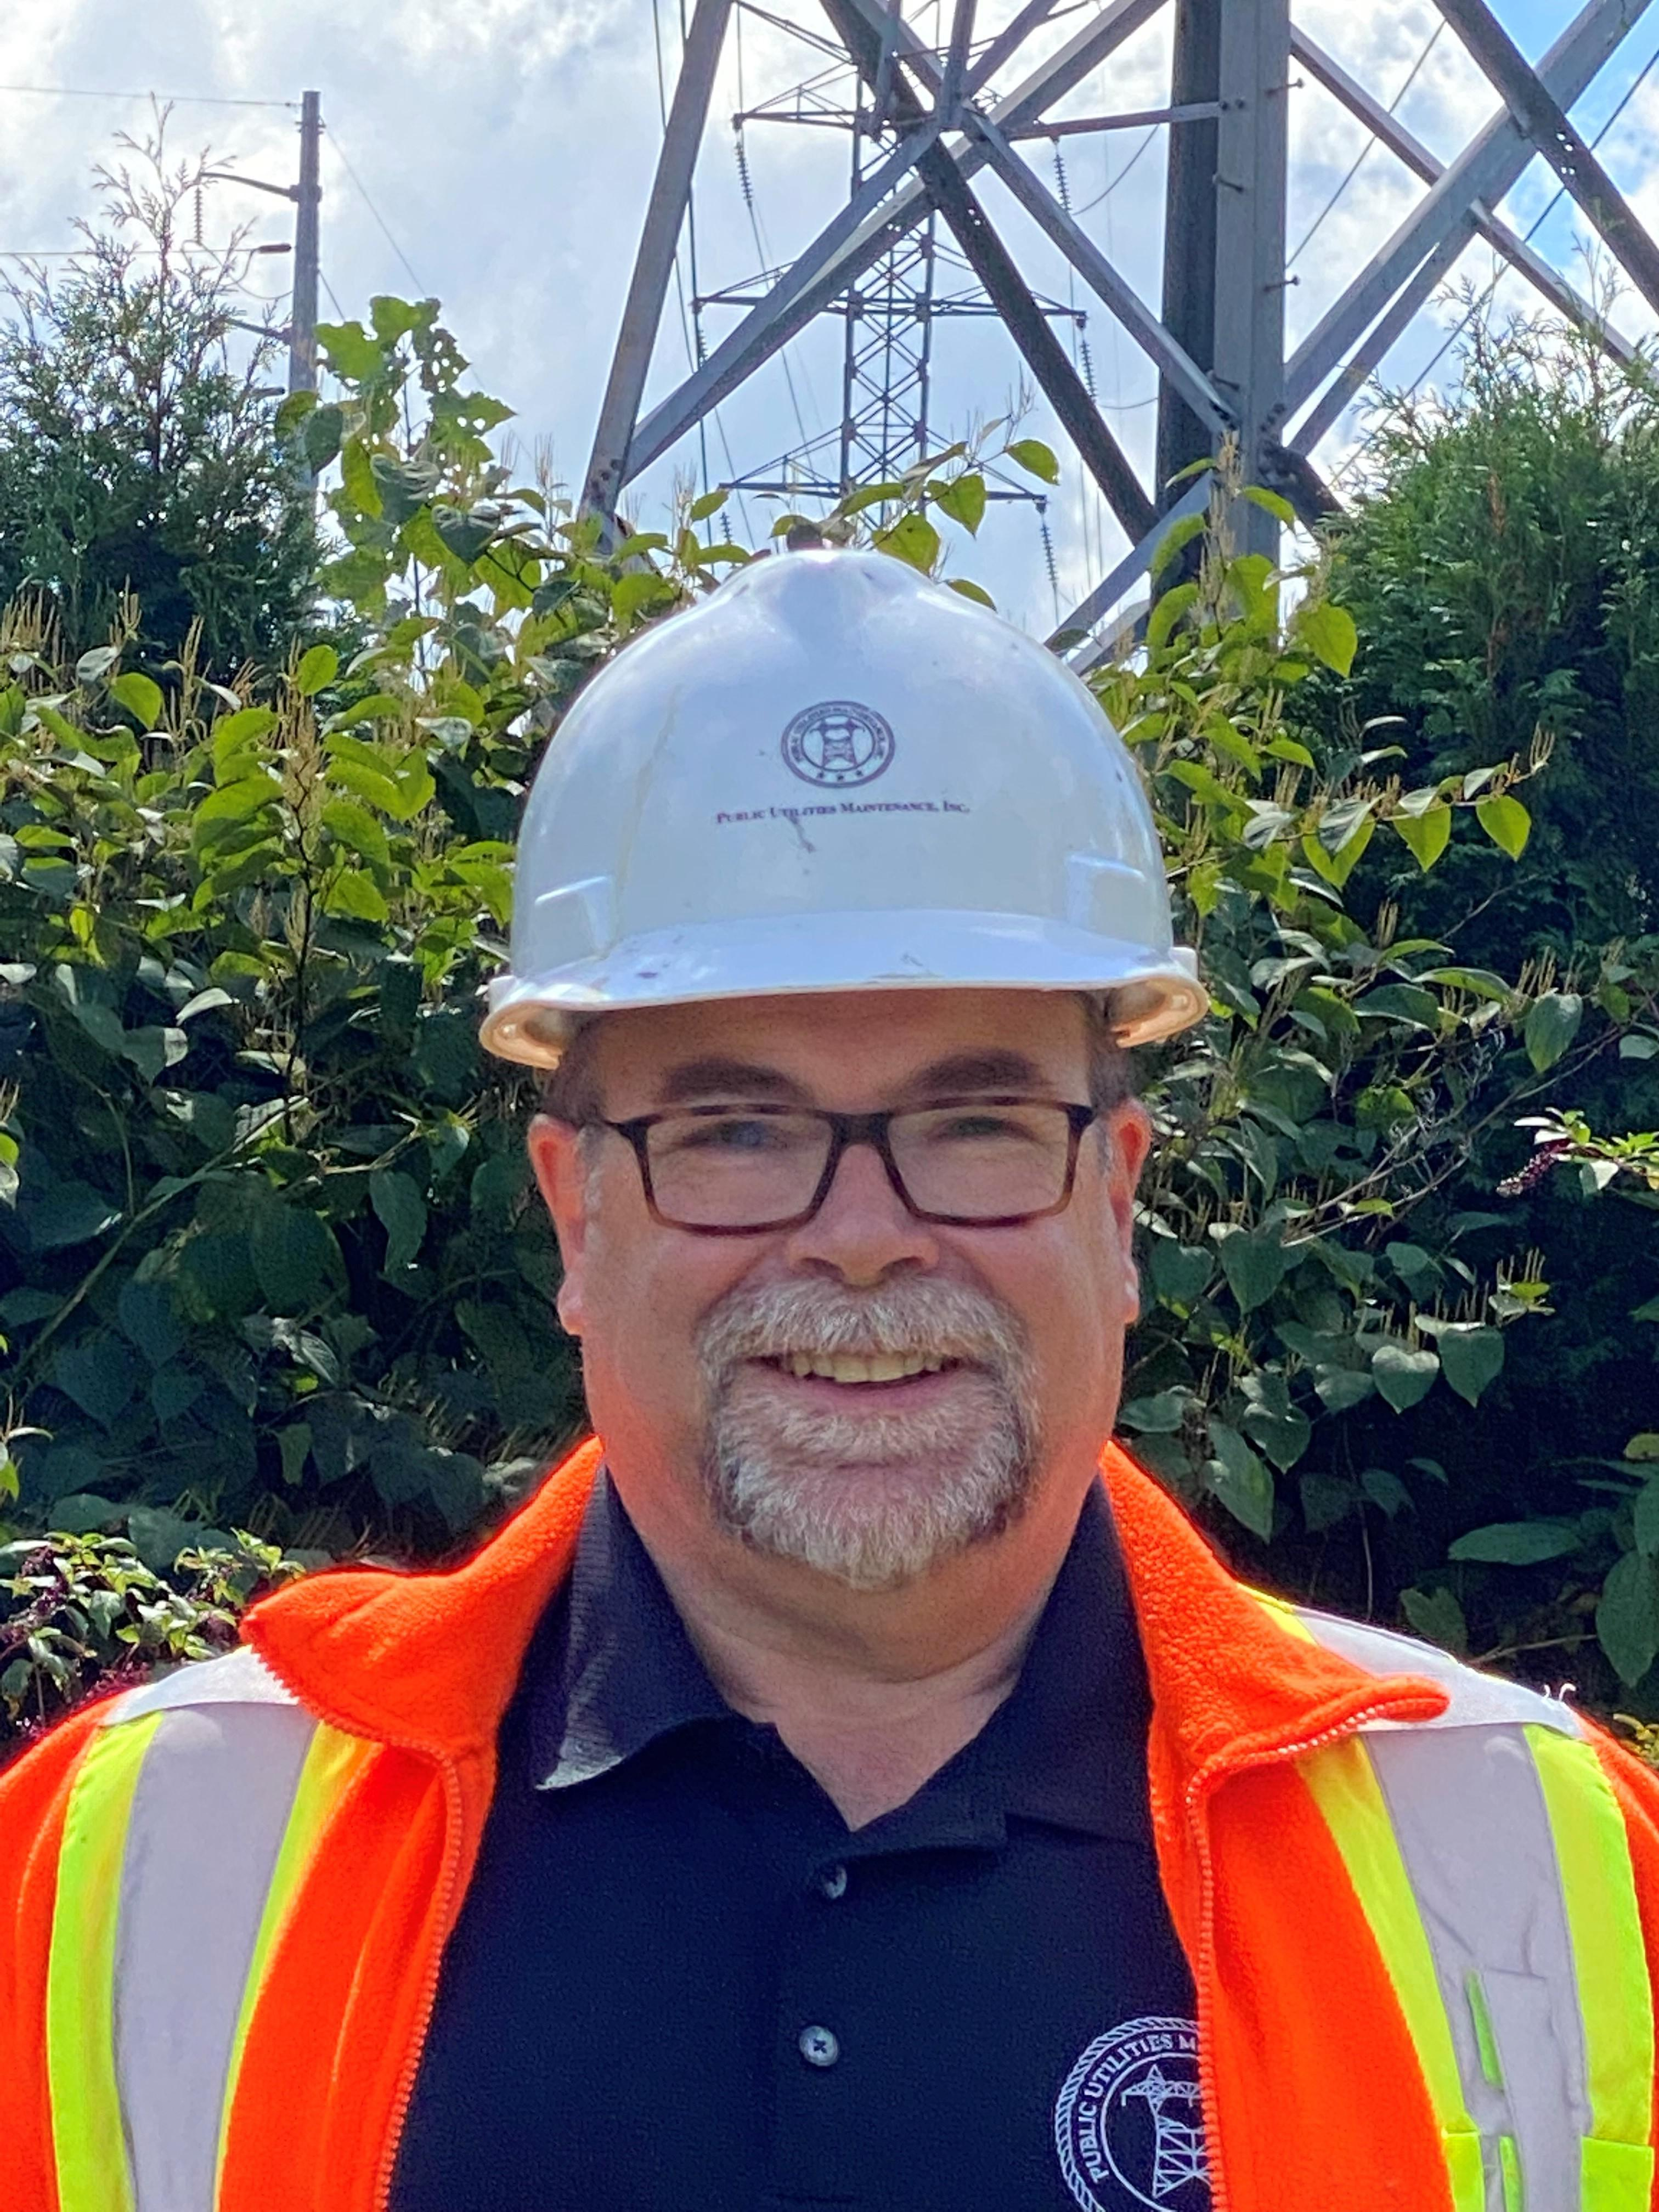helmet: (484, 547, 1199, 1062)
